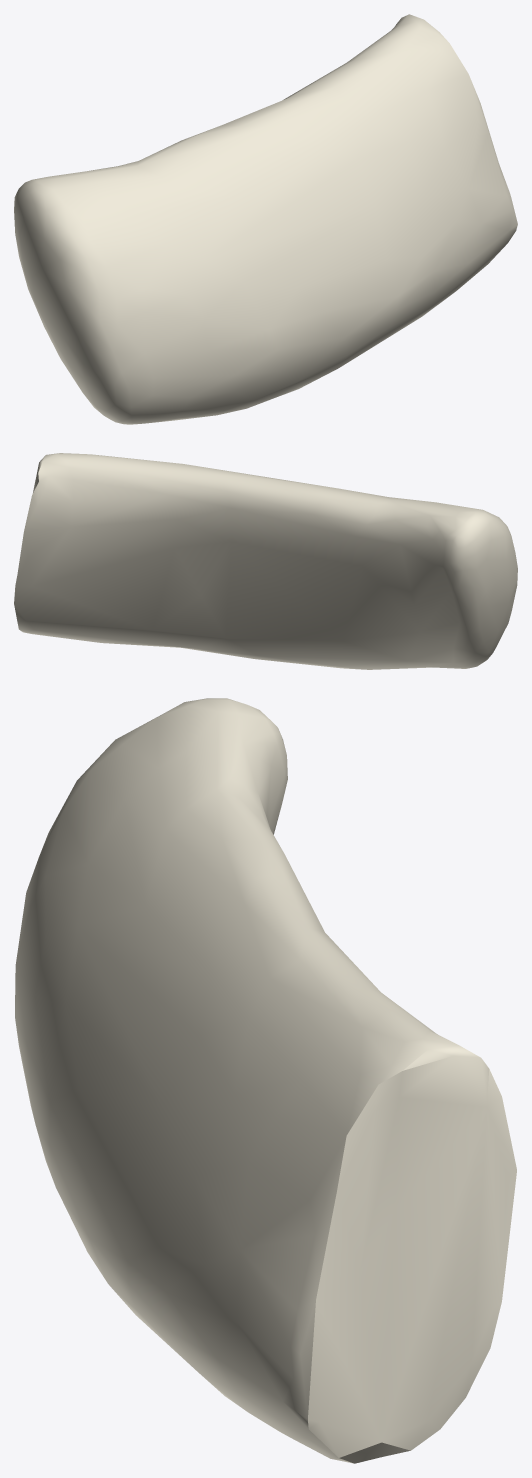
The model's file is fma8058_fj3245.glb.
3 renders of one model, top to bottom at view 1: azimuth 30°, elevation 25°; view 2: azimuth 150°, elevation 25°; view 3: azimuth 270°, elevation 25°, orthographic. The views are drawn at different scales.
Visible parts, largest first — view 1: FMA8058_FJ3245; view 2: FMA8058_FJ3245; view 3: FMA8058_FJ3245.
Part boxes in pixels (x1=…): FMA8058_FJ3245: x1=14, y1=14, x2=517, y2=424; FMA8058_FJ3245: x1=14, y1=453, x2=517, y2=669; FMA8058_FJ3245: x1=15, y1=698, x2=516, y2=1463.
Bounding box in the file's own units: 0.0376 × 0.0176 × 0.0186.
